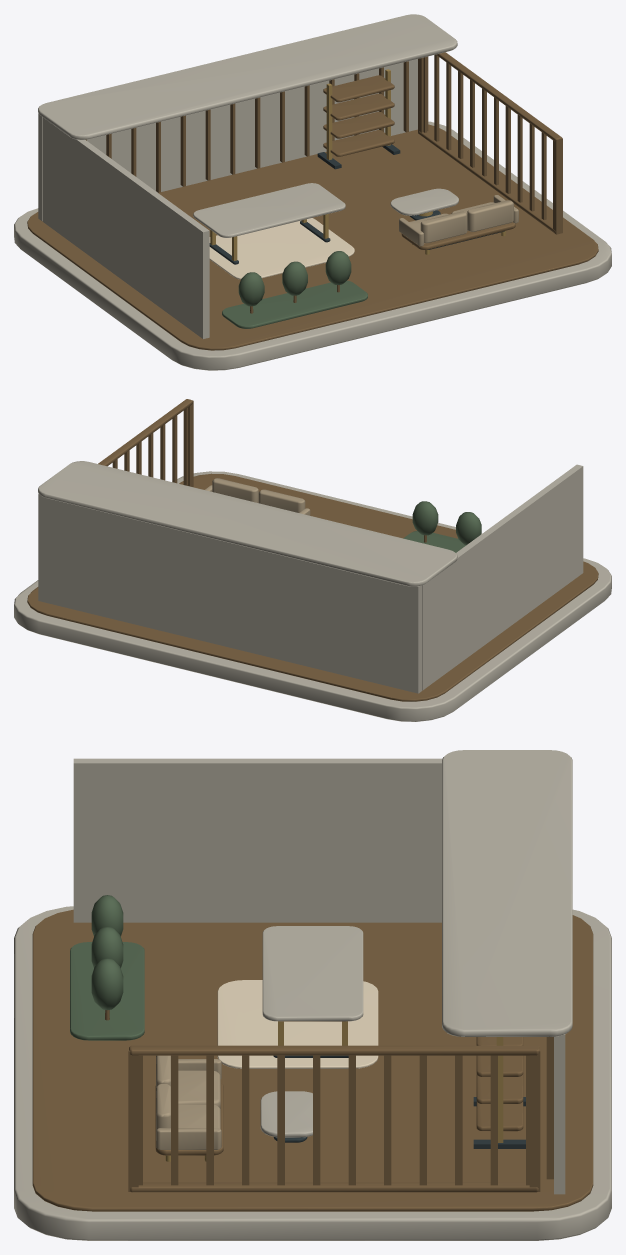
File: standard.glb
3 renders of one model, top to bottom at view 1: azimuth 30°, elevation 25°; view 2: azimuth 150°, elevation 25°; view 3: azimuth 270°, elevation 25°, orthographic. The views are drawn at different scales.
Visible parts, largest first — view 1: officina-architecture-limestone, officina-architecture-timber, officina-architecture-garden, officina-architecture-chalk, officina-architecture-woven-upholstery, officina-architecture-brushed-brass, officina-architecture-graphite; view 2: officina-architecture-limestone, officina-architecture-timber, officina-architecture-garden, officina-architecture-woven-upholstery; view 3: officina-architecture-limestone, officina-architecture-timber, officina-architecture-garden, officina-architecture-chalk, officina-architecture-woven-upholstery, officina-architecture-brushed-brass, officina-architecture-graphite.
Boxes of the visible parts, left/top/right/bottom form: officina-architecture-limestone: left=14, top=14, right=611, bottom=370; officina-architecture-timber: left=27, top=52, right=598, bottom=350; officina-architecture-garden: left=222, top=251, right=367, bottom=328; officina-architecture-chalk: left=209, top=218, right=354, bottom=279; officina-architecture-woven-upholstery: left=399, top=195, right=518, bottom=246; officina-architecture-brushed-brass: left=210, top=69, right=505, bottom=260; officina-architecture-graphite: left=209, top=144, right=504, bottom=264; officina-architecture-limestone: left=14, top=461, right=611, bottom=721; officina-architecture-timber: left=27, top=399, right=598, bottom=701; officina-architecture-garden: left=403, top=501, right=481, bottom=552; officina-architecture-woven-upholstery: left=205, top=478, right=310, bottom=515; officina-architecture-limestone: left=14, top=750, right=611, bottom=1240; officina-architecture-timber: left=32, top=909, right=593, bottom=1211; officina-architecture-garden: left=70, top=895, right=144, bottom=1040; officina-architecture-chalk: left=217, top=980, right=378, bottom=1068; officina-architecture-woven-upholstery: left=156, top=1055, right=221, bottom=1149; officina-architecture-brushed-brass: left=165, top=1021, right=503, bottom=1161; officina-architecture-graphite: left=273, top=1055, right=525, bottom=1148.
Bounding box in the file's own units: 20 × 5.73 × 16.
